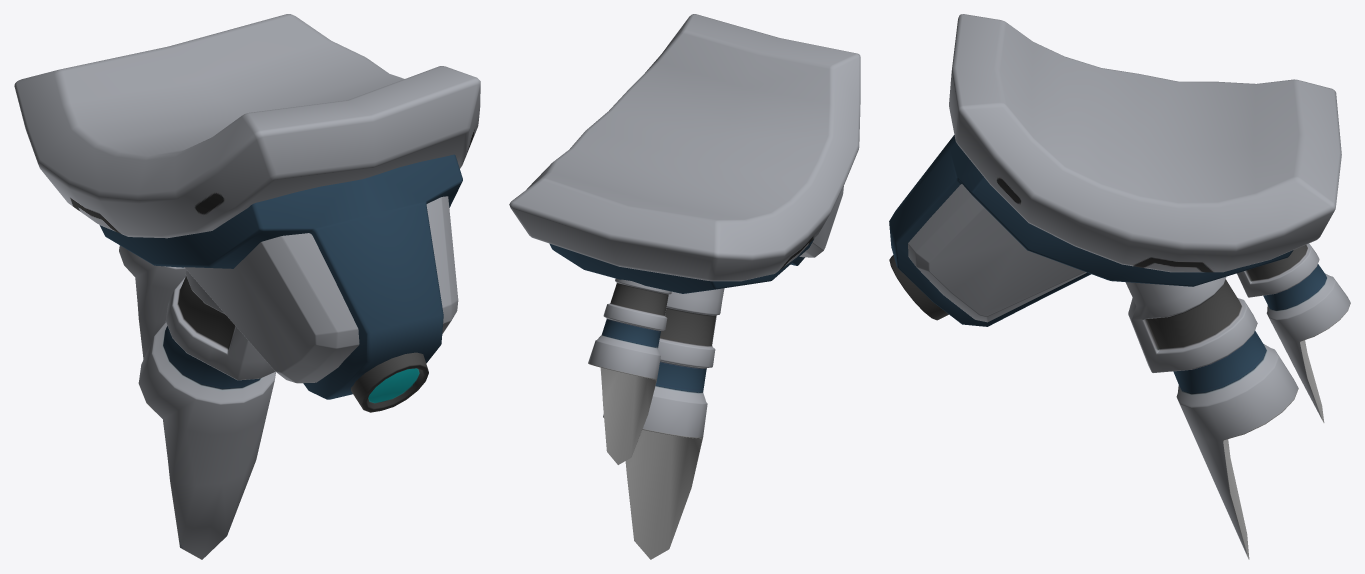
Rendered from Assist_feixingqi01.FBX.
3 renders of one model, left to right at view 1: azimuth 30°, elevation 25°; view 2: azimuth 150°, elevation 25°; view 3: azimuth 270°, elevation 25°, orthographic. The views are drawn at different scales.
Visible parts, largest first — view 1: Assist_feixingqi01; view 2: Assist_feixingqi01; view 3: Assist_feixingqi01.
Part boxes in pixels (bbox=[...]): Assist_feixingqi01: bbox=[14, 14, 480, 559]; Assist_feixingqi01: bbox=[509, 14, 860, 559]; Assist_feixingqi01: bbox=[889, 14, 1350, 559].
Size of the model in its own units: 1.98 by 3.18 by 2.66.
1 material, 1 textured.
